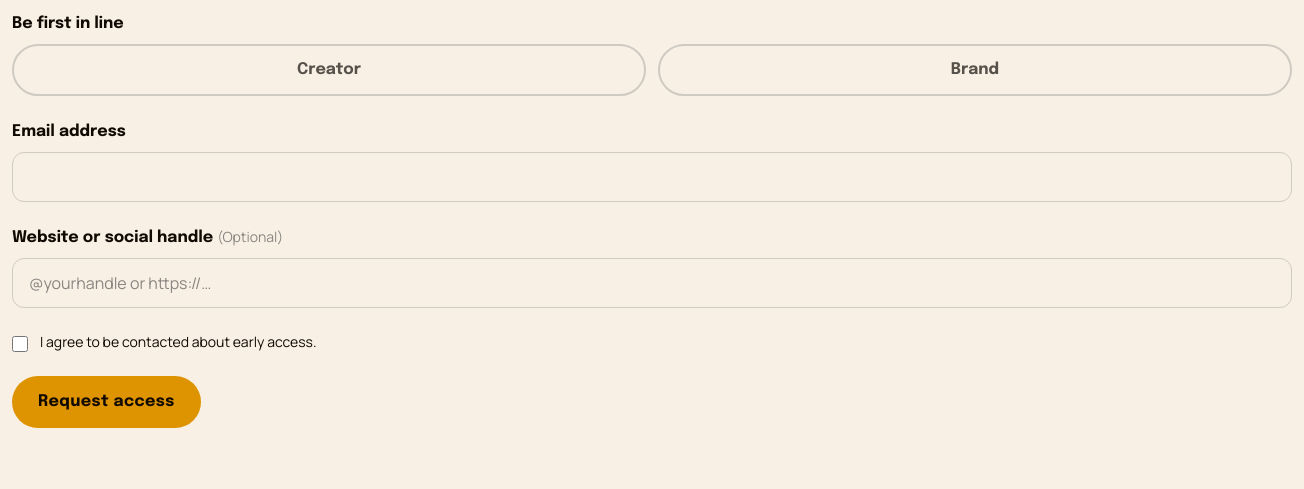
Scenario: WaitlistForm › surfaces a generic error when the request fails
The image size is (1304, 489).
Click the radio button labelled "Brand" at [975, 70], box x1=658 y1=44 x2=1292 y2=96
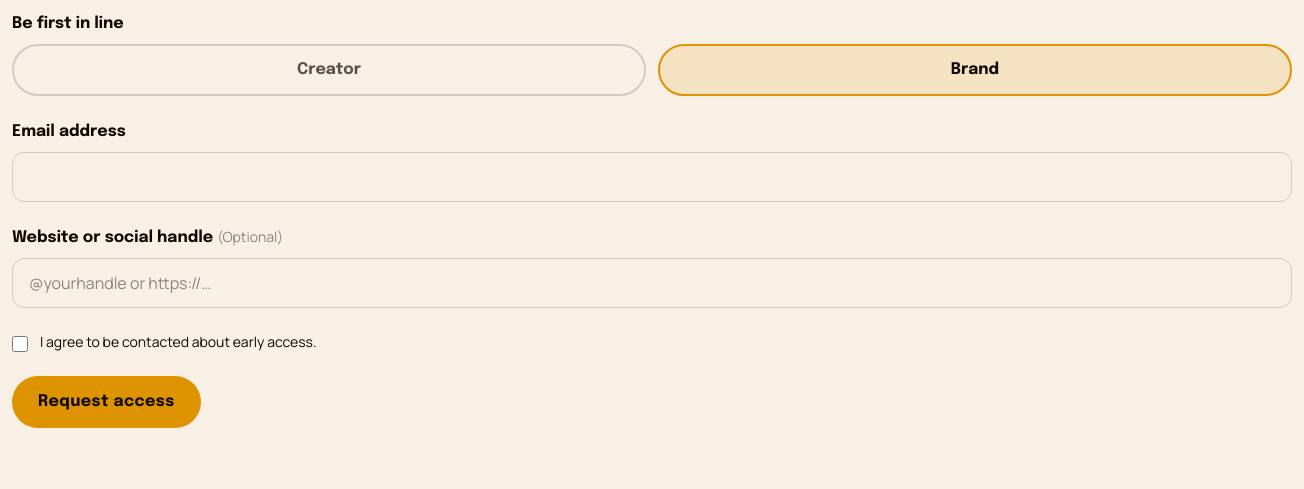
Type "brand@example.com" into the field labelled "Email address" at [652, 177], box x1=12 y1=152 x2=1292 y2=202
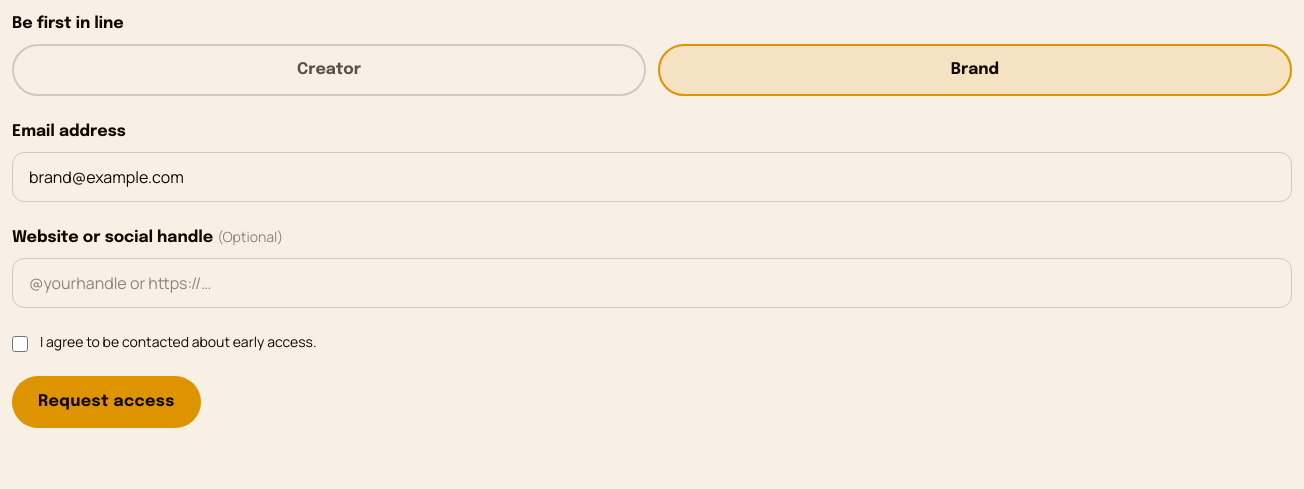
Click the checkbox at [20, 344], box x1=12 y1=336 x2=28 y2=352
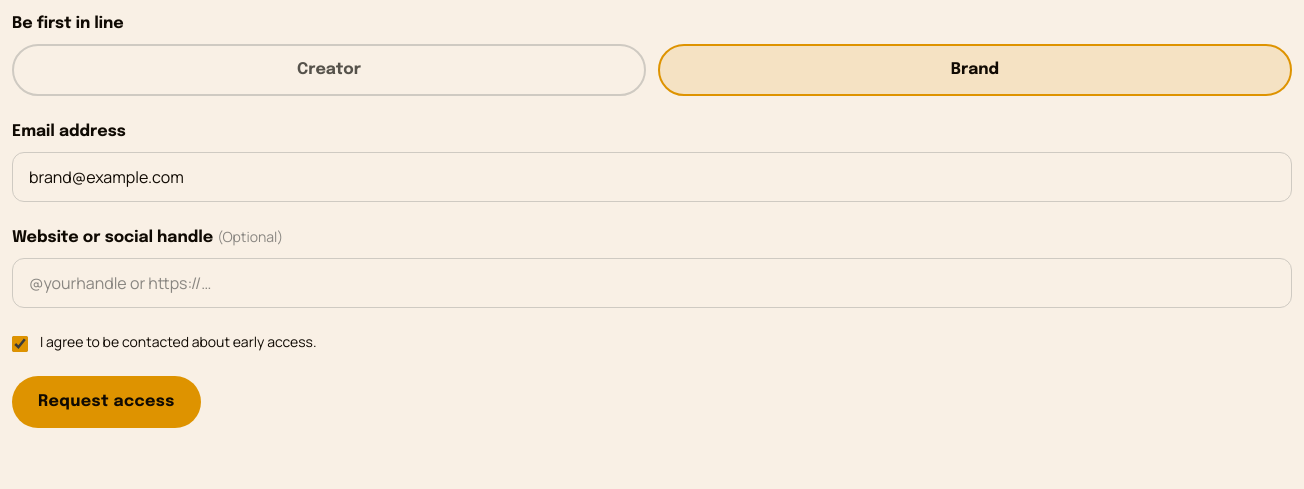
Click the button "Request access" at [106, 402], box x1=12 y1=376 x2=201 y2=428
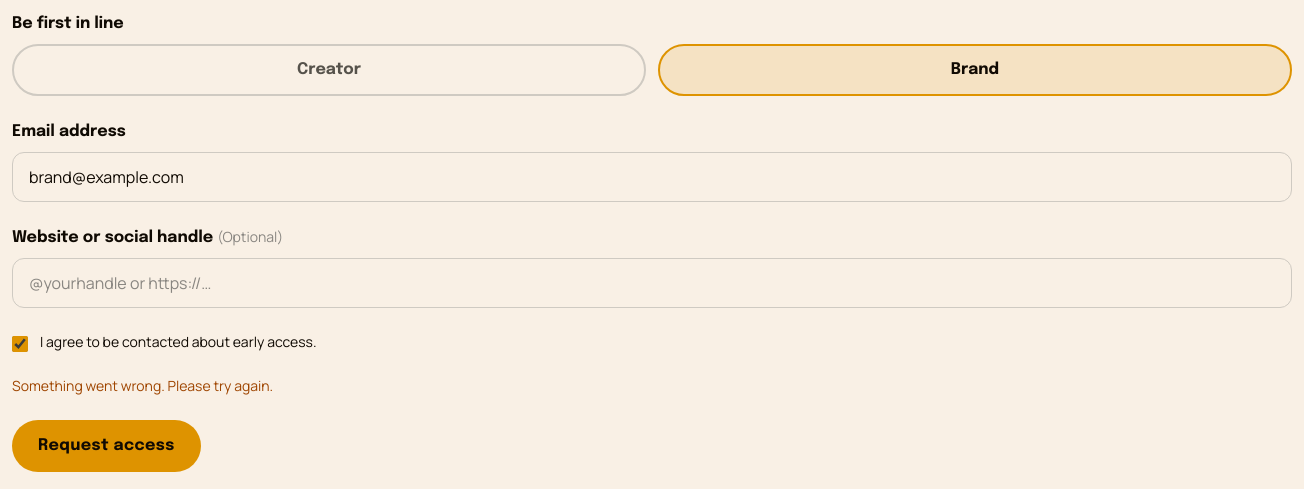
Result: the text "Something went wrong. Please try again." is shown at x1=12 y1=376 x2=273 y2=395
